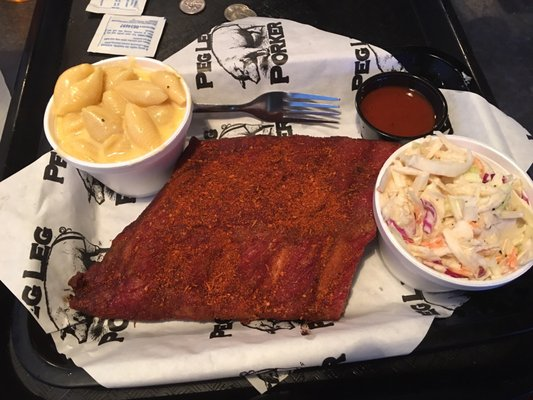soup: (70, 134, 390, 325)
sushi: (373, 134, 533, 293), (43, 55, 193, 199), (355, 72, 451, 141)
